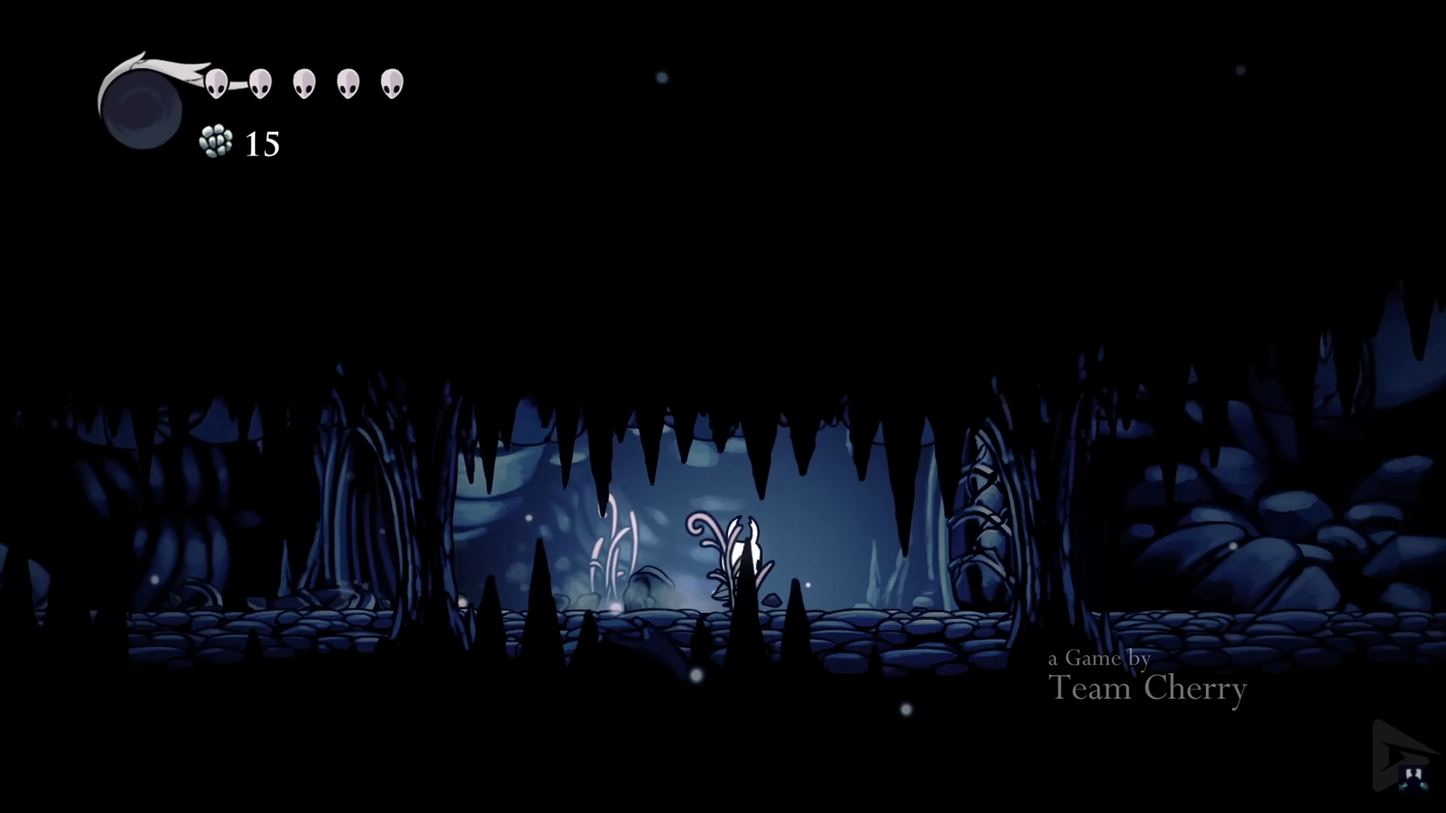HK: (707, 521, 769, 615)
